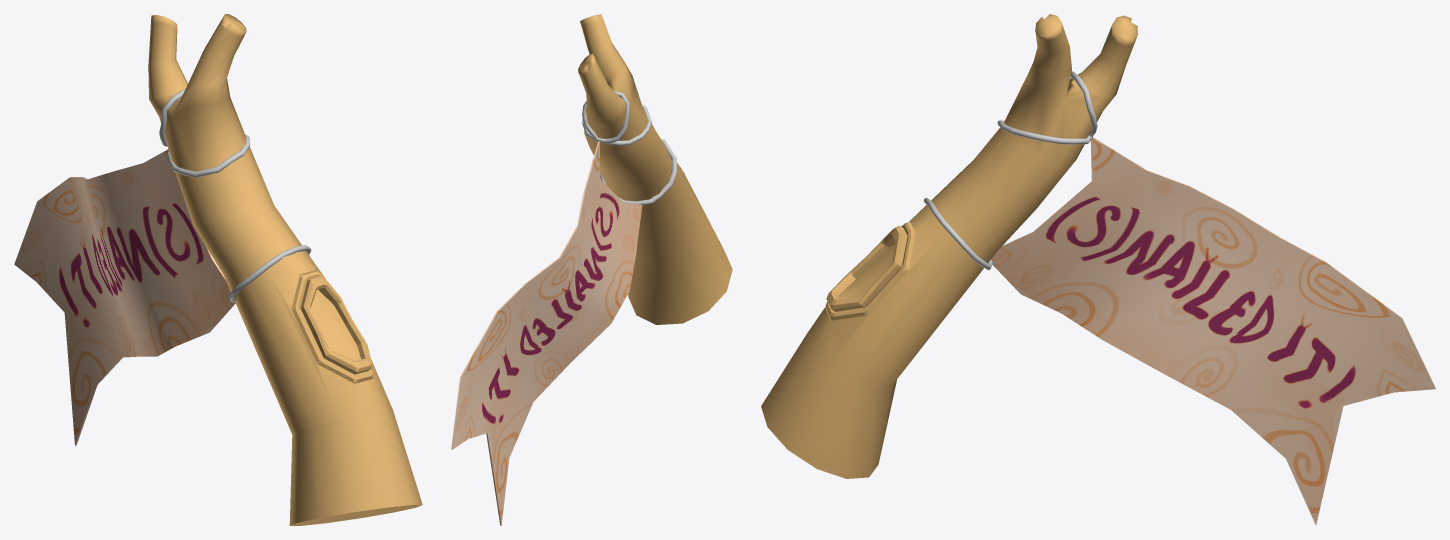
Rendered from 3D_BandieraObbiettivo.fbx.
3 renders of one model, left to right at view 1: azimuth 30°, elevation 25°; view 2: azimuth 150°, elevation 25°; view 3: azimuth 270°, elevation 25°, orthographic. The views are drawn at different scales.
Parts seen in each view (by area): view 1: Tronco, snailed it!, Corda; view 2: snailed it!, Tronco, Corda; view 3: snailed it!, Tronco, Corda.
Boxes of the visible parts, <box> form: Tronco: <box>148,14,422,525</box>; snailed it!: <box>14,149,235,445</box>; Corda: <box>159,88,311,302</box>; snailed it!: <box>451,141,642,525</box>; Tronco: <box>578,14,732,324</box>; Corda: <box>582,91,676,205</box>; snailed it!: <box>991,137,1435,525</box>; Tronco: <box>761,14,1137,478</box>; Corda: <box>923,71,1097,270</box>.
Bounding box in the file's own units: 42.33 × 167 × 196.
